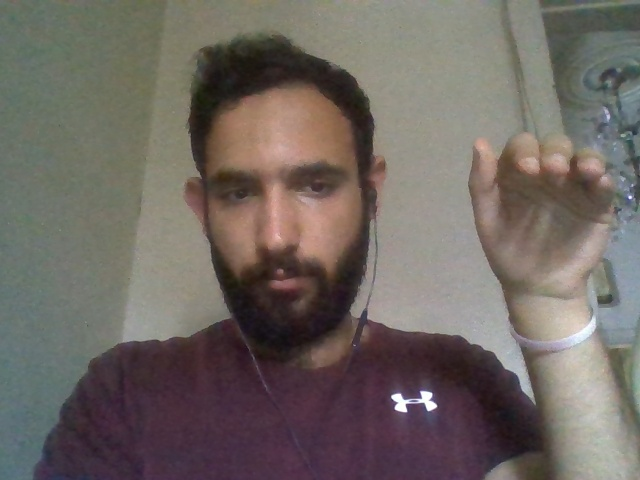Snake: (441, 112, 640, 480)
